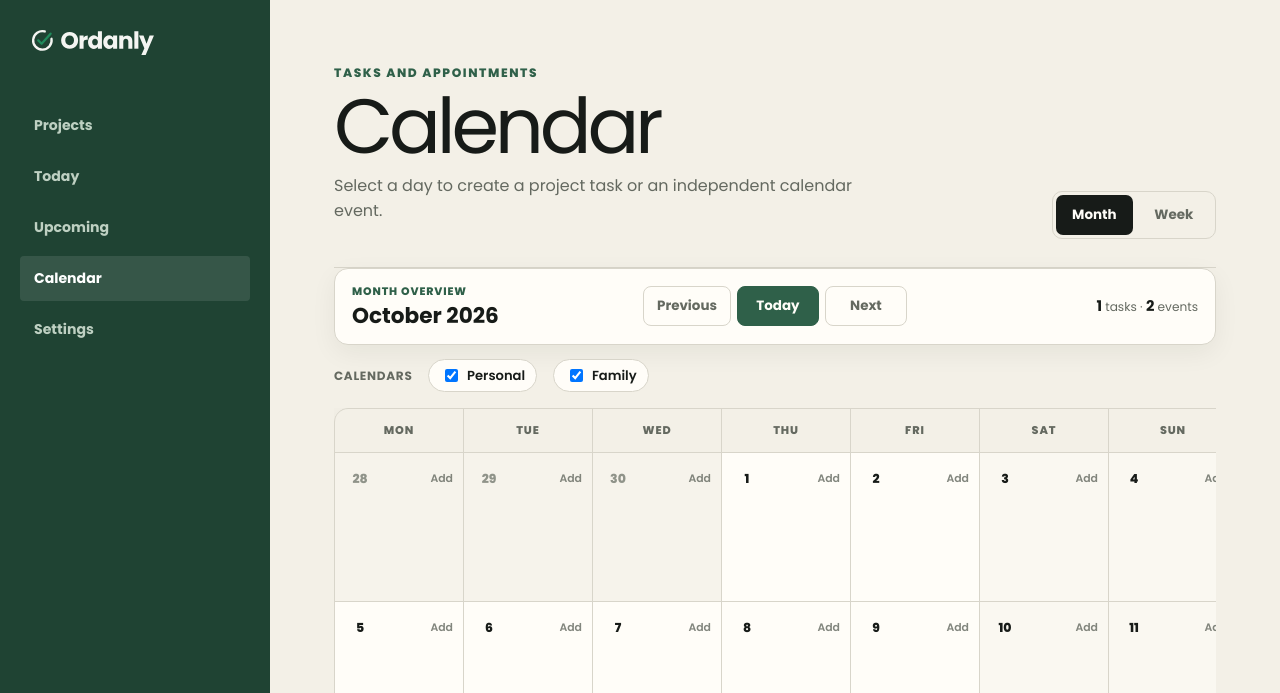
Test case: Calendar › creates a project task from the entry chooser
The image size is (1280, 693).
Click the button with aria-label "add entry on": (399, 479) [345,463,453,495]
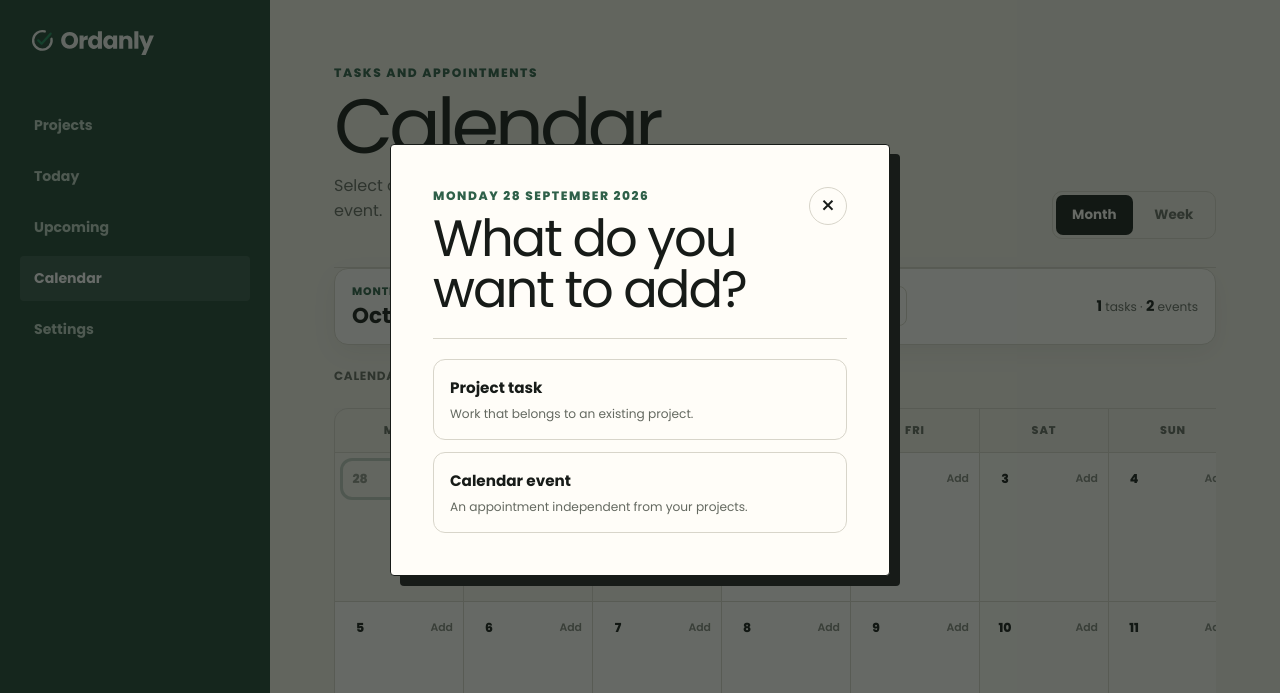
Click the button "Project task Work that belongs to an existing project.": (496, 388) [433,359,847,440]
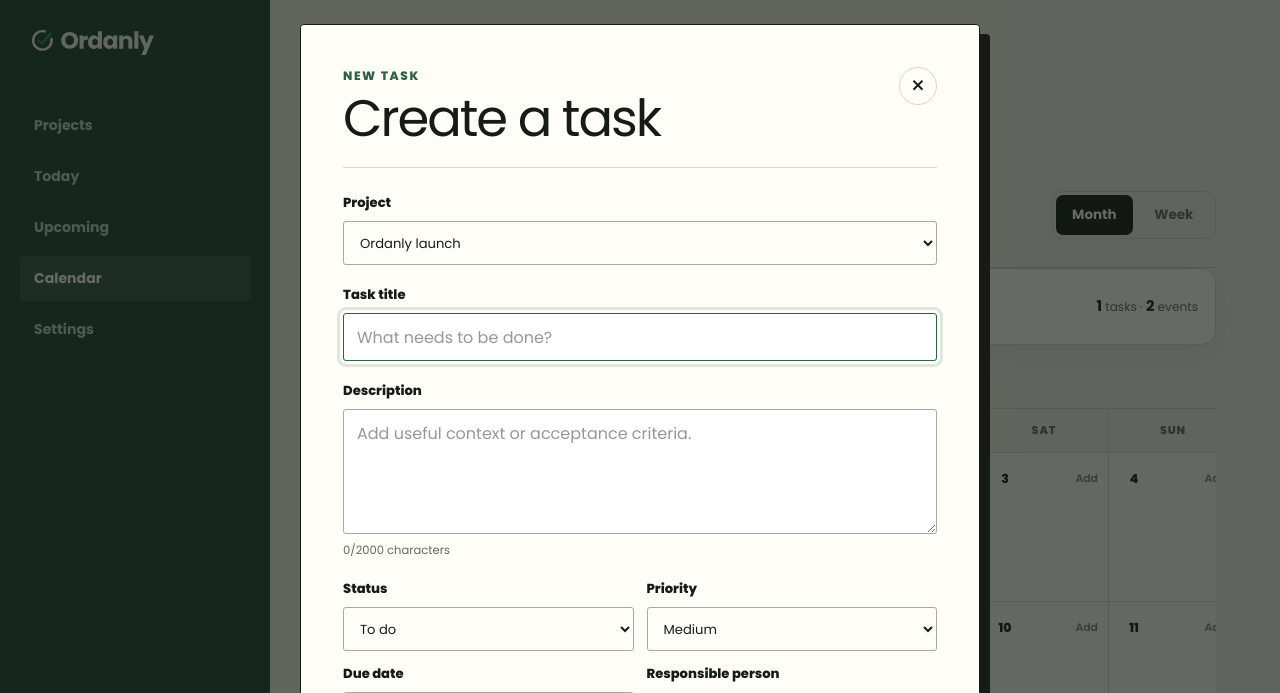
In the field labelled "Task title": (640, 337) [343,313,937,361], type "Prepare calendar demo"
(page scrolled)
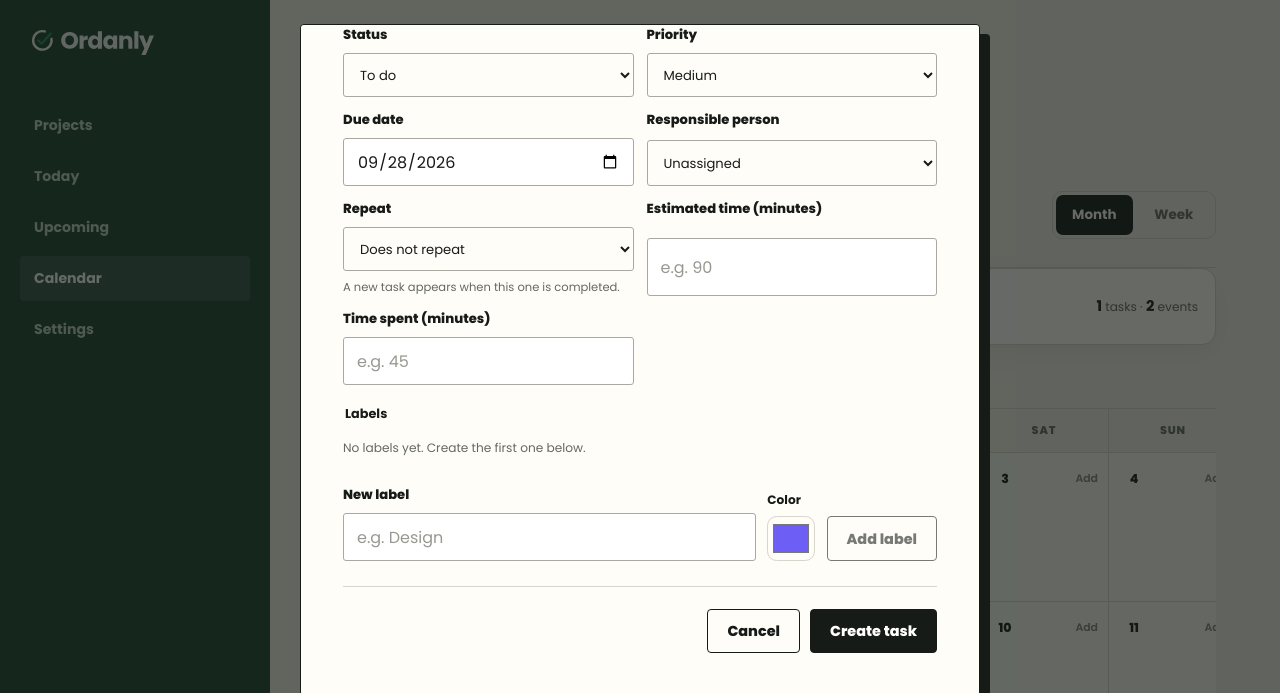
Click the button "Create task": (874, 631) [810,609,937,653]
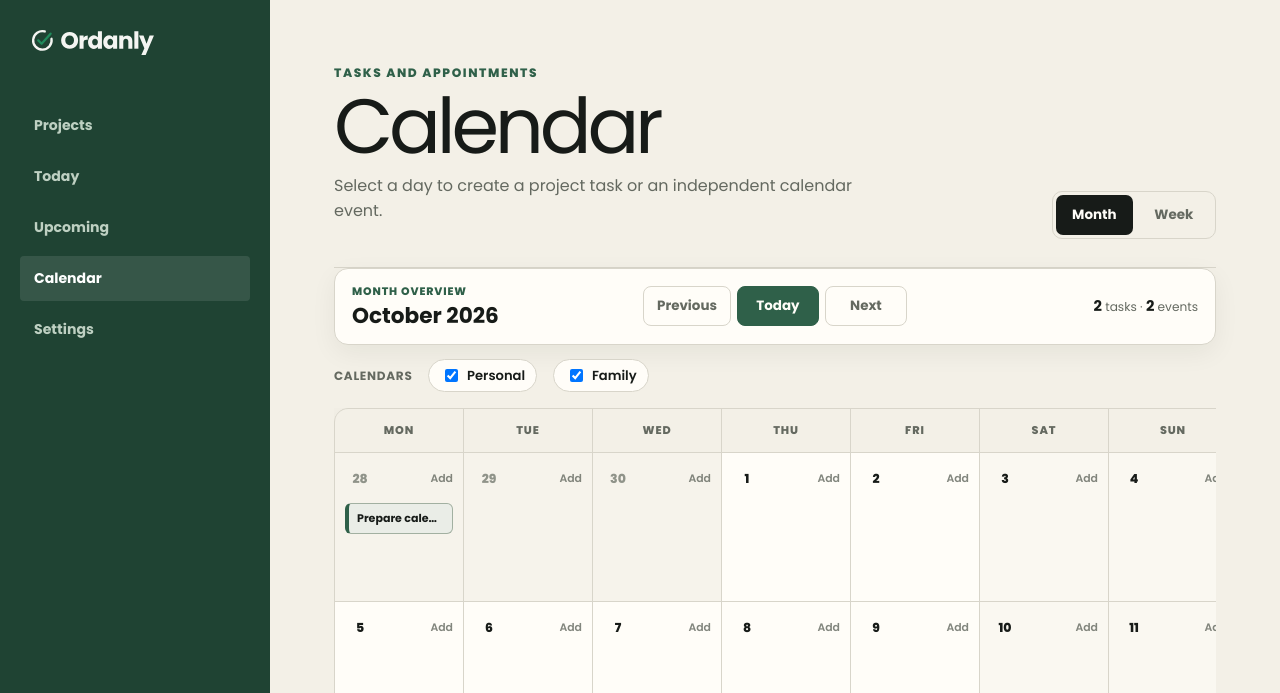
Expected: the text "Prepare calendar demo" is shown, [357,511,444,526]
